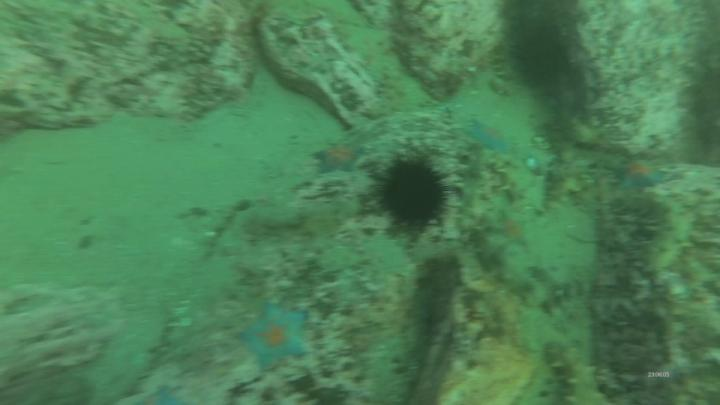echinus: (363, 139, 464, 241), (503, 18, 570, 86)
starfish: (239, 301, 314, 370), (611, 157, 670, 193), (312, 144, 368, 176), (472, 118, 510, 155)
